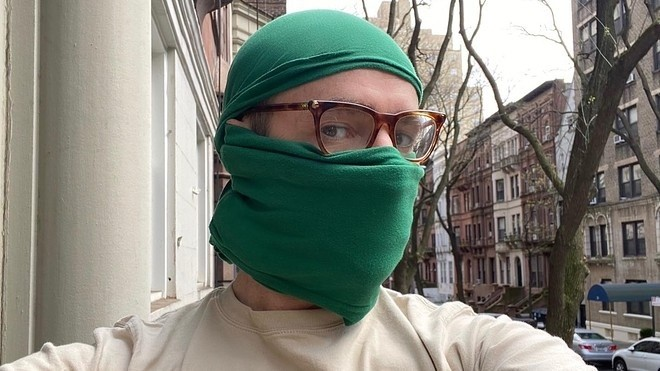face_with_mask: (224, 8, 424, 308)
